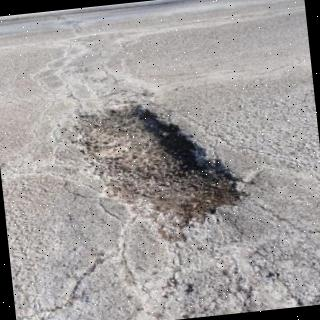pothole: (56, 101, 248, 243)
